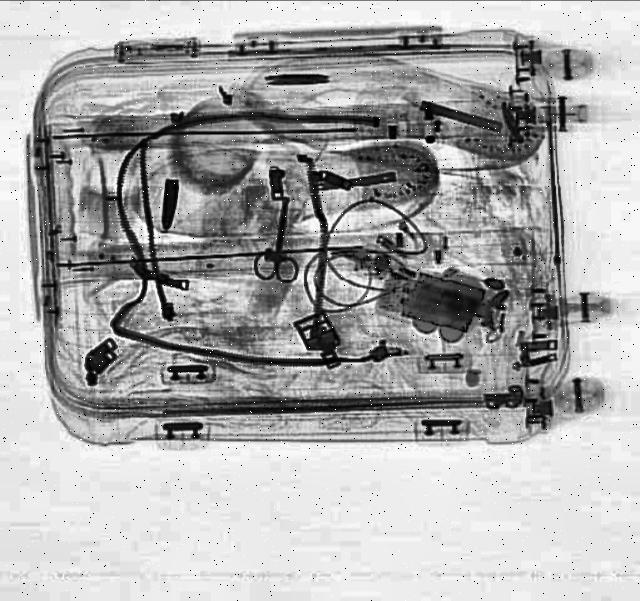Scissors: (250, 196, 306, 284)
